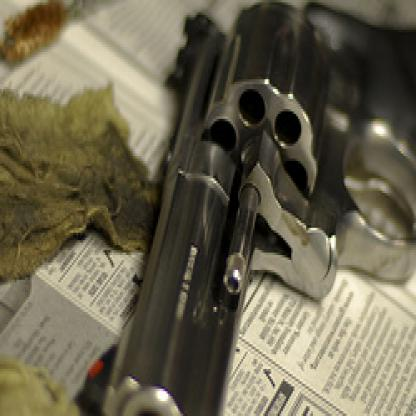gun: (76, 0, 414, 414)
